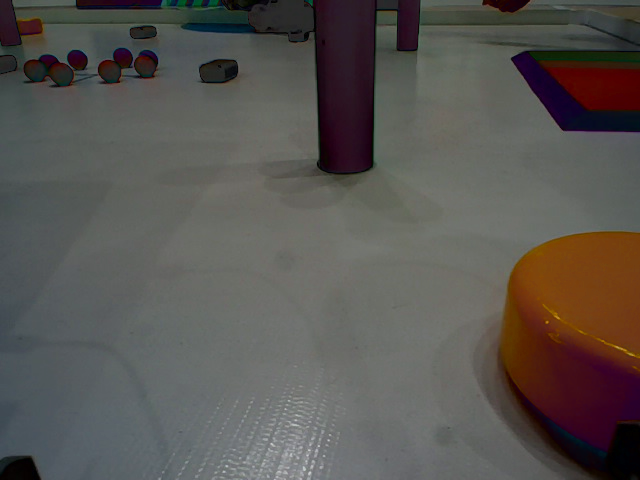black: (198, 56, 240, 85), (128, 20, 161, 38)
blue: (37, 54, 59, 73), (69, 49, 90, 66), (113, 46, 133, 63)
kuang: (506, 46, 640, 140)
red: (48, 62, 79, 89), (97, 57, 123, 83), (135, 53, 155, 77), (22, 60, 44, 80)
yellow: (498, 222, 640, 468), (13, 17, 45, 35)
zhuzi: (306, 1, 381, 176), (397, 1, 429, 53), (1, 1, 24, 48)
